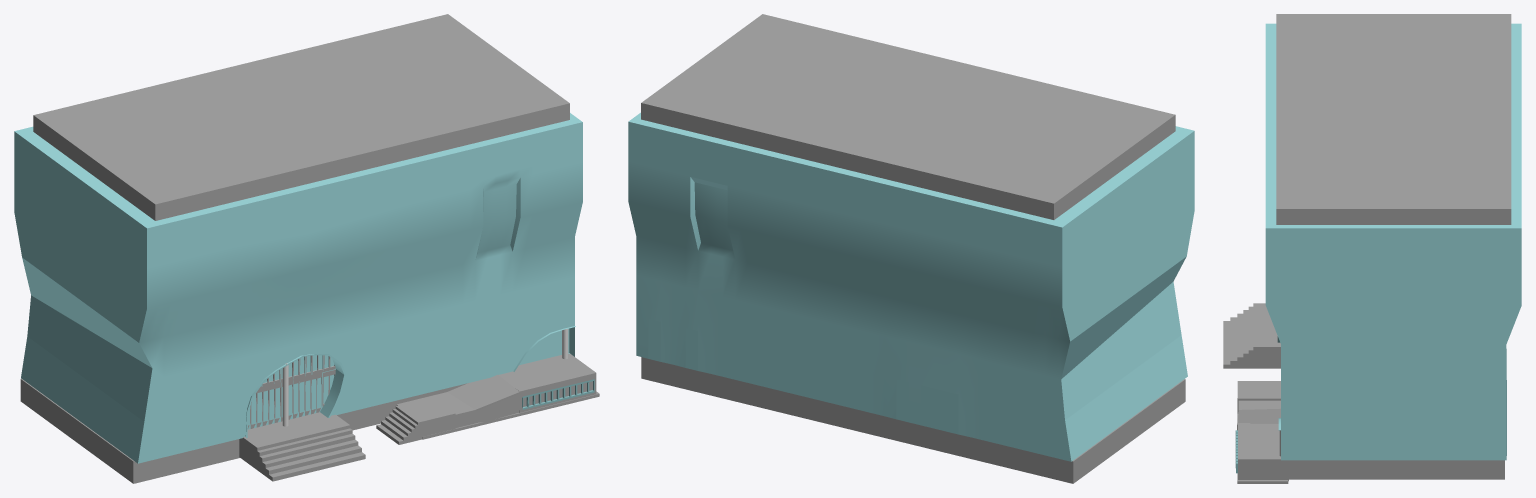
Rendered from 중앙도서관.fbx.
3 views of the same model, side by side, from view 1: azimuth 30°, elevation 25°; view 2: azimuth 150°, elevation 25°; view 3: azimuth 270°, elevation 25° (orthographic). The views are drawn at different scales.
Parts seen in each view (by area): view 1: pCube1, pCube2, pCube7, pasted__pasted__pCube5, pCube3, pasted__pasted__pCube6, pCube4, pCube5, pCube6; view 2: pCube1, pCube2, pCube7; view 3: pCube1, pCube2, pCube7, pasted__pasted__pCube5, pCube3, pasted__pasted__pCube6, pCube4, pCube5.
Part boxes in pixels (box(x1,y1,x2,y2)): pCube1: box(14, 113, 582, 463); pCube2: box(33, 14, 569, 220); pCube7: box(20, 355, 561, 483); pasted__pasted__pCube5: box(239, 412, 365, 481); pCube3: box(499, 353, 596, 412); pasted__pasted__pCube6: box(376, 397, 455, 444); pCube4: box(448, 374, 520, 426); pCube5: box(396, 392, 475, 427); pCube6: box(422, 391, 599, 439); pCube1: box(628, 112, 1194, 461); pCube2: box(641, 14, 1175, 219); pCube7: box(641, 357, 1185, 483); pCube1: box(1265, 23, 1521, 460); pCube2: box(1276, 14, 1511, 224); pCube7: box(1289, 460, 1504, 479); pasted__pasted__pCube5: box(1223, 303, 1280, 368); pCube3: box(1238, 423, 1288, 481); pasted__pasted__pCube6: box(1237, 381, 1280, 413); pCube4: box(1237, 408, 1280, 430); pCube5: box(1238, 400, 1280, 409).
Size of the model in its own units: 5.74 by 3.5 by 3.5.
